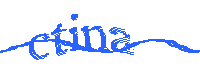a: (110, 27, 133, 56)
c: (27, 32, 51, 61)
i: (69, 14, 81, 53)
n: (82, 22, 108, 54)
t: (52, 23, 68, 59)
